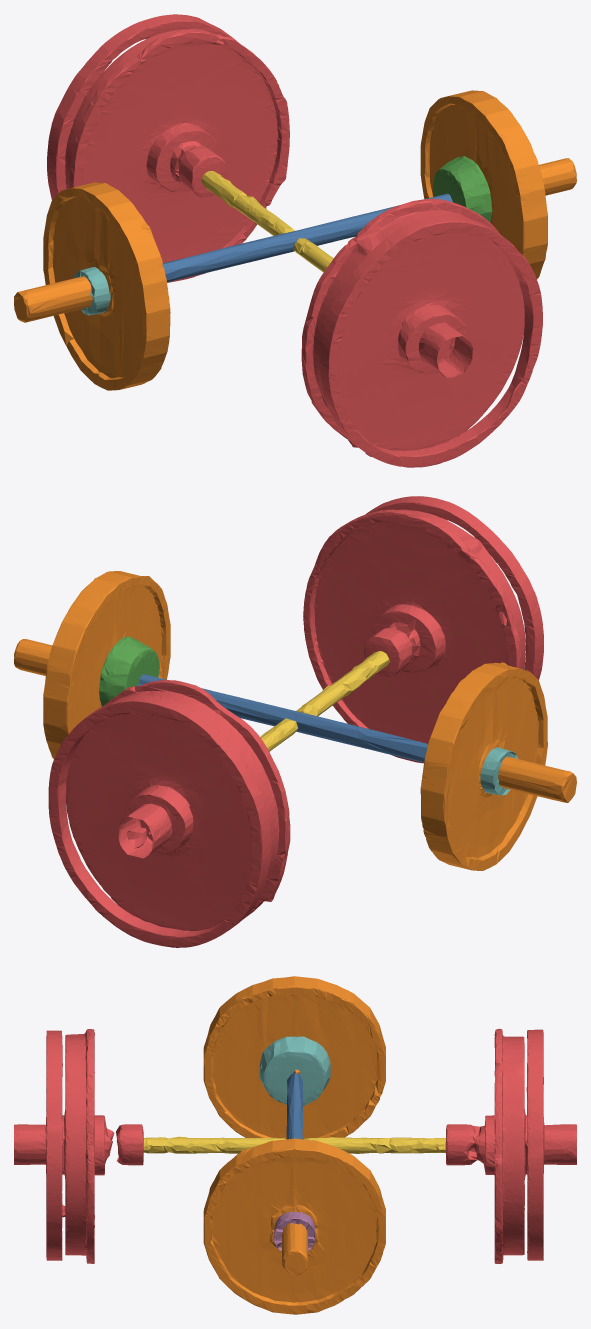
The model's file is dumbbell_partcrafter_assembled.glb.
3 views of the same model, one above another, from view 1: azimuth 30°, elevation 25°; view 2: azimuth 150°, elevation 25°; view 3: azimuth 270°, elevation 25° (orthographic). The views are drawn at different scales.
Parts seen in each view (by area): view 1: part_02, part_01, part_00, part_05, part_04, part_03; view 2: part_02, part_01, part_00, part_04, part_05, part_03; view 3: part_01, part_02, part_05, part_03, part_00, part_06.
Part boxes in pixels (x1=…): part_02: x1=47, y1=14, x2=542, y2=467; part_01: x1=14, y1=90, x2=576, y2=390; part_00: x1=162, y1=193, x2=452, y2=282; part_05: x1=201, y1=171, x2=333, y2=272; part_04: x1=432, y1=156, x2=492, y2=222; part_03: x1=74, y1=267, x2=110, y2=315; part_02: x1=48, y1=496, x2=543, y2=947; part_01: x1=14, y1=571, x2=576, y2=870; part_00: x1=137, y1=674, x2=427, y2=762; part_04: x1=99, y1=636, x2=159, y2=706; part_05: x1=260, y1=651, x2=390, y2=751; part_03: x1=480, y1=747, x2=518, y2=795; part_01: x1=203, y1=976, x2=385, y2=1314; part_02: x1=14, y1=1028, x2=576, y2=1263; part_05: x1=143, y1=1136, x2=445, y2=1153; part_03: x1=259, y1=1036, x2=330, y2=1105; part_00: x1=286, y1=1072, x2=302, y2=1139; part_06: x1=273, y1=1211, x2=314, y2=1252.
Size of the model in its own units: 0.9953 by 0.4266 by 1.
